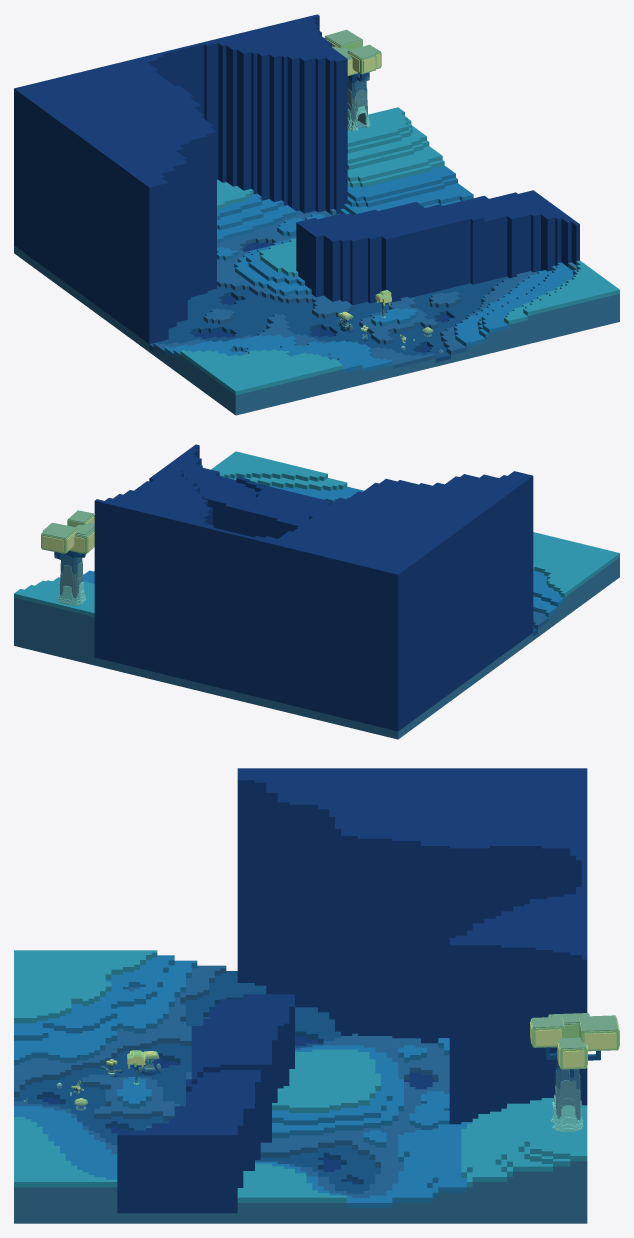
Rendered from Level design + NPCs + Building + Props.fbx.
The picture shows the model from 3 angles, top to bottom: view 1: azimuth 30°, elevation 25°; view 2: azimuth 150°, elevation 25°; view 3: azimuth 270°, elevation 25°; orthographic projection. The views are drawn at different scales.
Parts seen in each view (by area): view 1: level_design:Mesh, Building_TreeOfLife1; view 2: level_design:Mesh, Building_TreeOfLife1; view 3: level_design:Mesh, Building_TreeOfLife1.
Part boxes in pixels (left/top/right/bottom): level_design:Mesh: left=14, top=14, right=619, bottom=415; Building_TreeOfLife1: left=324, top=29, right=381, bottom=130; level_design:Mesh: left=14, top=444, right=619, bottom=739; Building_TreeOfLife1: left=41, top=510, right=94, bottom=605; level_design:Mesh: left=14, top=768, right=587, bottom=1223; Building_TreeOfLife1: left=530, top=1013, right=619, bottom=1131.
Size of the model in its own units: 800 by 328 by 845.
